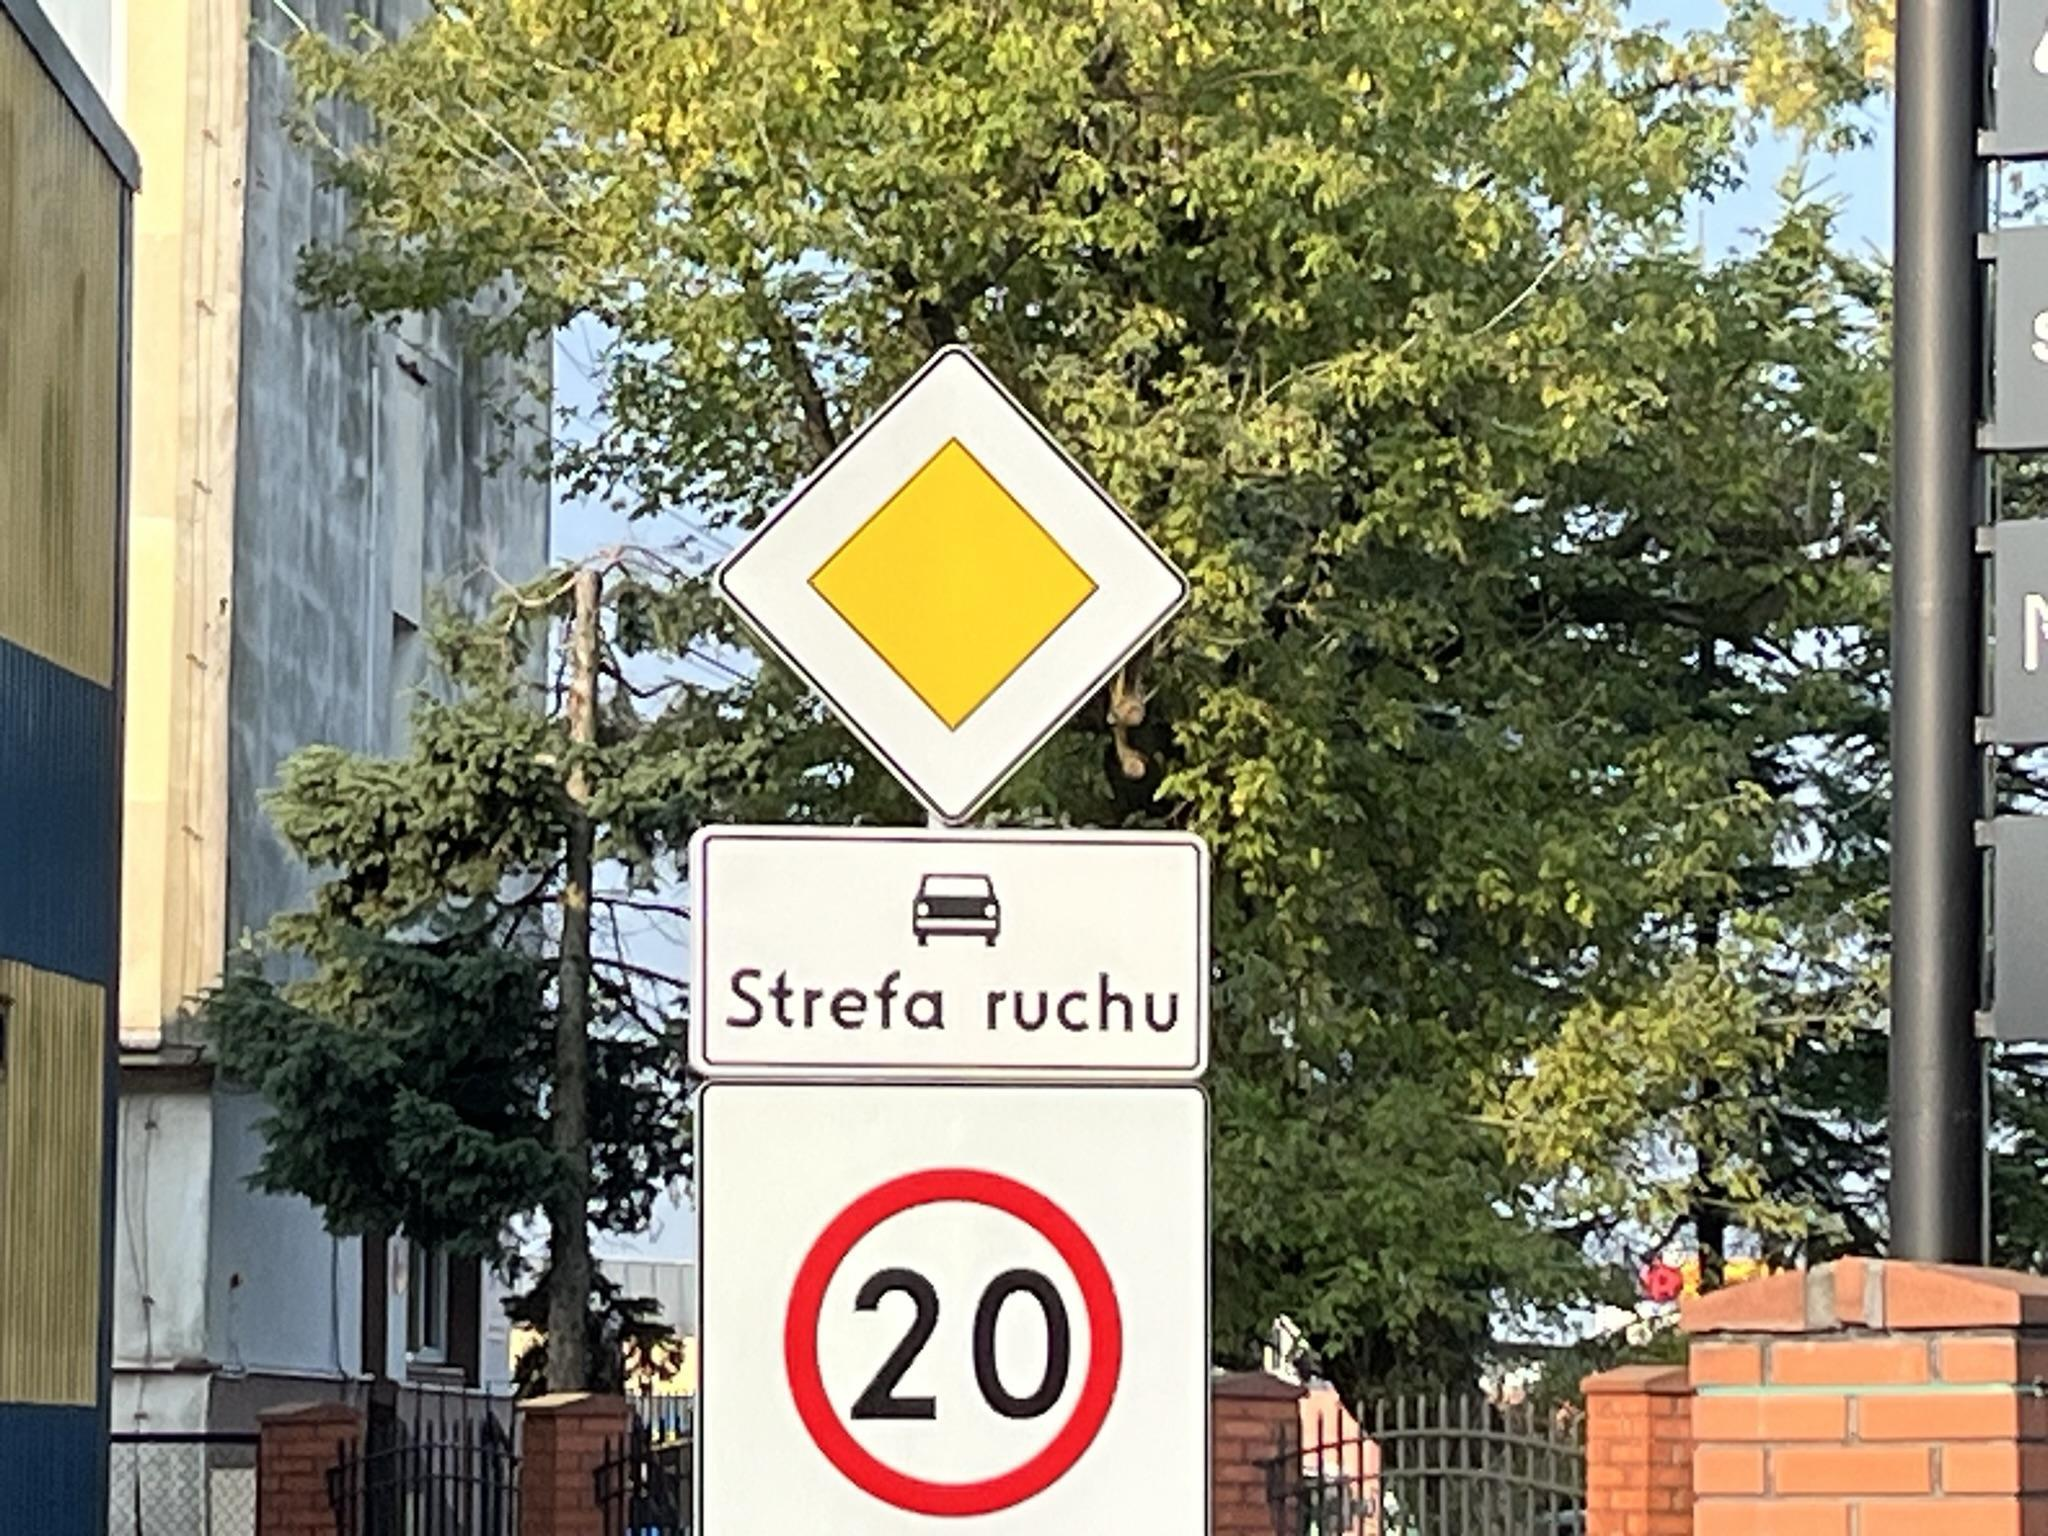information: (710, 340, 1193, 826), (692, 828, 1208, 1083)
prohibitory: (777, 1163, 1126, 1520)
